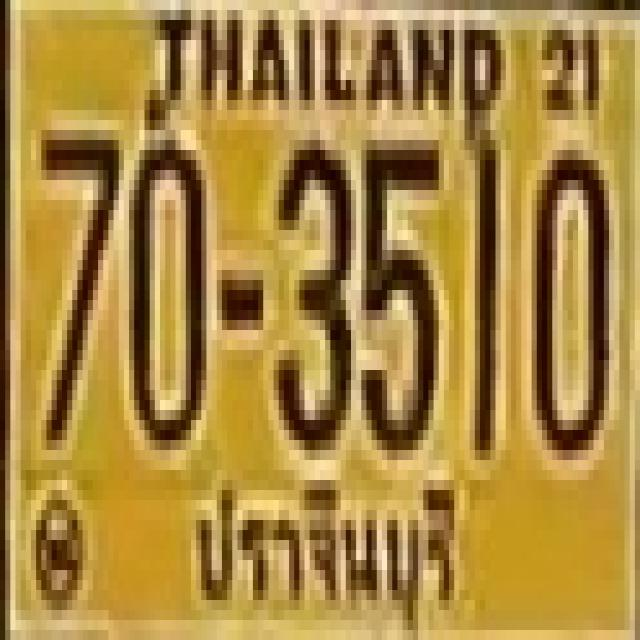0: (126, 130, 199, 440), (531, 140, 604, 450)
1: (470, 140, 496, 450)
3: (274, 130, 351, 440)
5: (359, 135, 436, 445)
7: (36, 120, 119, 440)
PRI: (186, 476, 468, 630)
